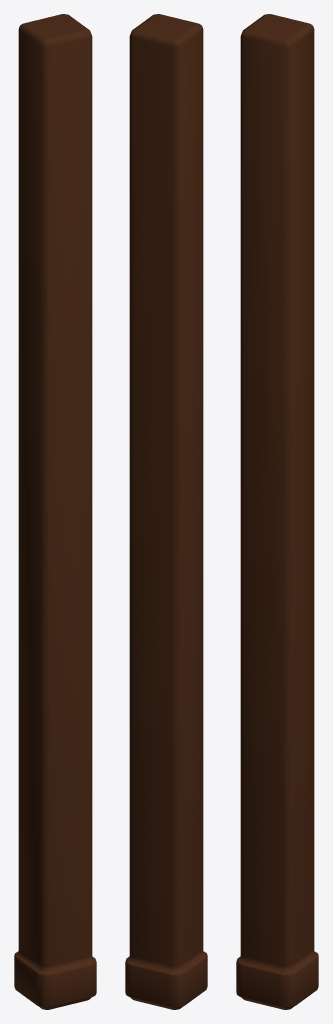
Rendered from FM_H_SH_02_Pillar_001.fbx.
3 views of the same model, side by side, from view 1: azimuth 30°, elevation 25°; view 2: azimuth 150°, elevation 25°; view 3: azimuth 330°, elevation 25° (orthographic).
Parts seen in each view (by area): view 1: FM_H_Small_H_02_Pillar_001; view 2: FM_H_Small_H_02_Pillar_001; view 3: FM_H_Small_H_02_Pillar_001.
Part boxes in pixels (x1,y1,x2,y2): FM_H_Small_H_02_Pillar_001: [14, 14, 96, 1009]; FM_H_Small_H_02_Pillar_001: [125, 14, 207, 1009]; FM_H_Small_H_02_Pillar_001: [236, 14, 318, 1009].
Bounding box in the file's own units: 0.2675 × 4.21 × 0.2556.
